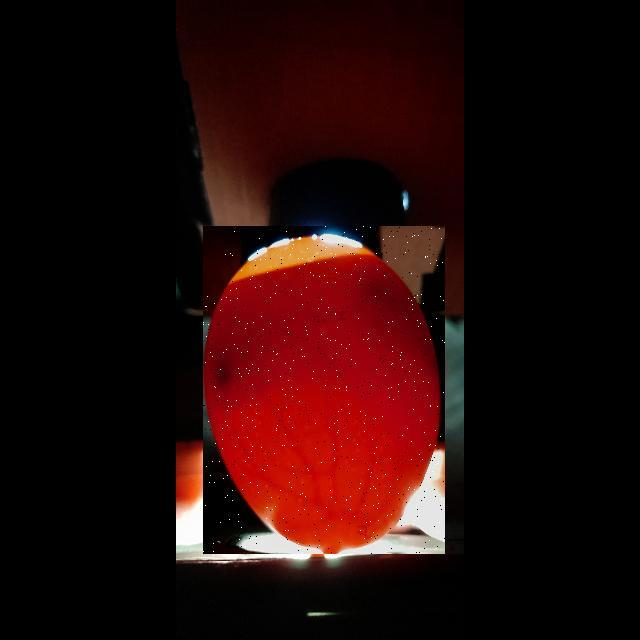Fertile: (203, 226, 445, 554)
